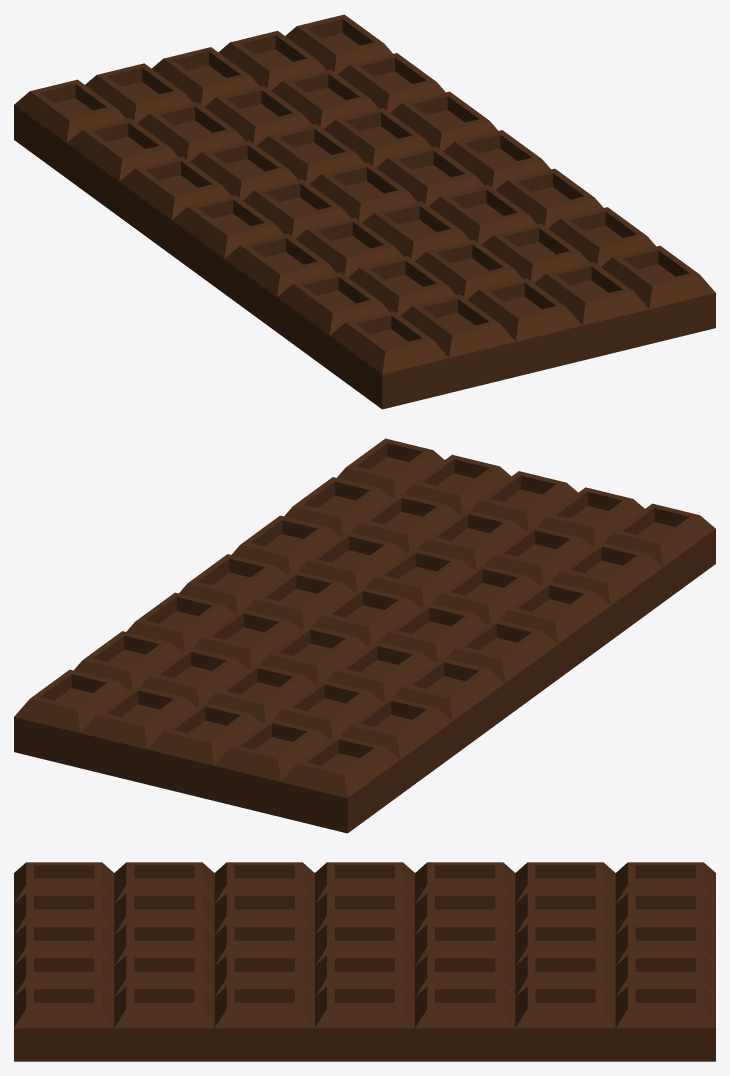
The model's file is SM_chocolate_02.fbx.
3 views of the same model, one above another, from view 1: azimuth 30°, elevation 25°; view 2: azimuth 150°, elevation 25°; view 3: azimuth 270°, elevation 25° (orthographic). The views are drawn at different scales.
Parts seen in each view (by area): view 1: chocolate_02; view 2: chocolate_02; view 3: chocolate_02.
Boxes of the visible parts, box(x1,y1,x2,y2) form: chocolate_02: box(14, 14, 715, 409); chocolate_02: box(14, 438, 715, 833); chocolate_02: box(14, 862, 715, 1061).
Bounding box in the file's own units: 21.58 × 3.15 × 41.26.
